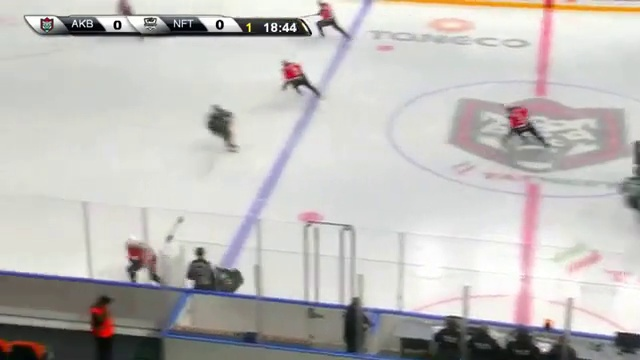team_2: (267, 55, 325, 94), (490, 103, 547, 142)
